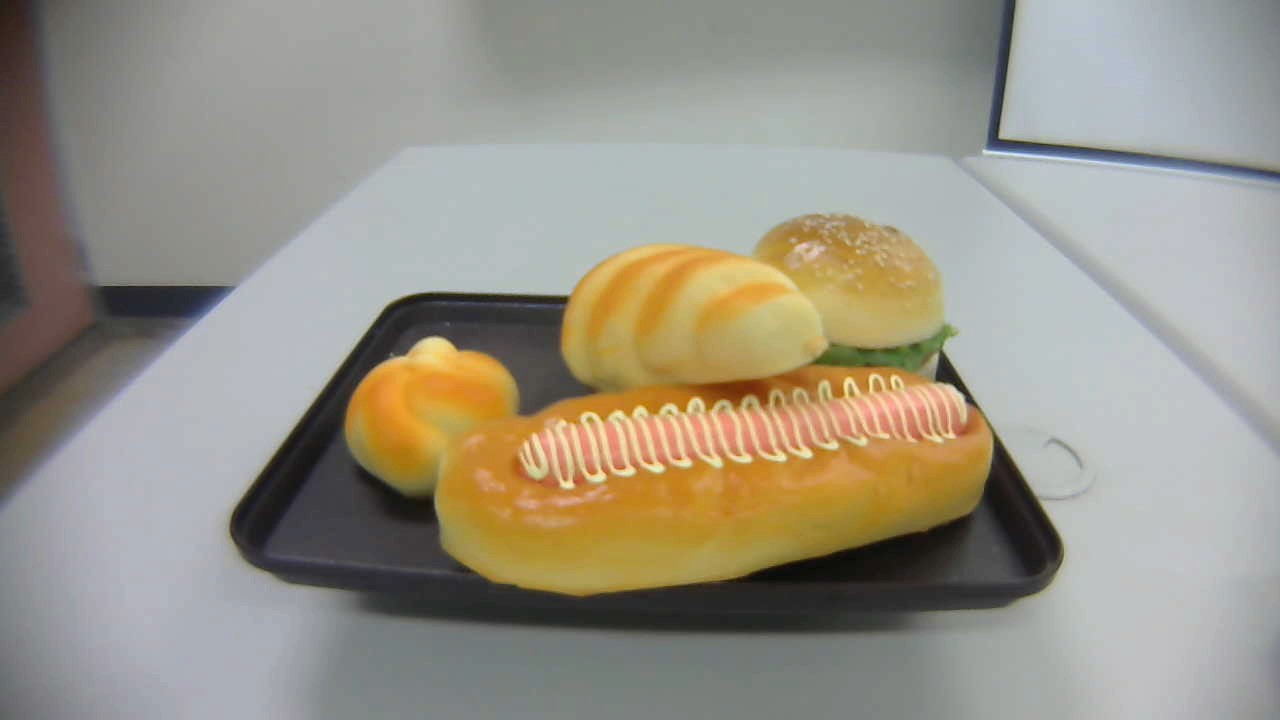croissant: (561, 243, 827, 392)
hamburger: (752, 213, 957, 397)
hot dog: (435, 364, 995, 597)
twist bread: (344, 335, 520, 501)
